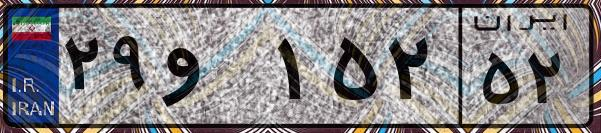1: (270, 28, 330, 110)
2: (385, 28, 445, 110), (57, 26, 110, 100), (525, 38, 570, 115)
5: (330, 28, 385, 110), (475, 38, 525, 113)
9: (110, 28, 158, 98)
و: (158, 20, 270, 120)
